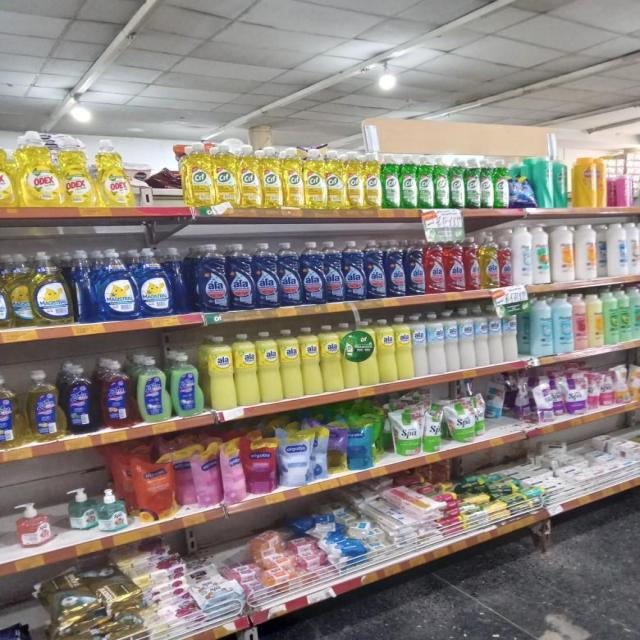ala_conc_amarillo: (481, 233, 499, 289)
ala_conc_azul: (192, 243, 228, 312), (229, 243, 253, 310), (254, 242, 278, 308), (278, 242, 300, 306), (302, 241, 324, 304), (344, 240, 365, 301), (366, 240, 385, 299), (326, 241, 344, 302), (386, 240, 405, 297), (406, 239, 425, 295)
ala_conc_rojo: (426, 238, 445, 294), (446, 236, 464, 292), (465, 235, 480, 291), (500, 233, 512, 287)
ala_crem_amarillo: (206, 335, 234, 410), (235, 332, 258, 407), (258, 330, 280, 403), (321, 324, 343, 392), (281, 328, 301, 398), (301, 326, 321, 395), (376, 318, 396, 383), (395, 315, 412, 380)
ala_crem_blanco: (428, 312, 445, 374), (412, 313, 427, 377), (503, 306, 519, 362), (460, 309, 474, 370), (445, 311, 459, 372), (474, 308, 488, 367), (489, 307, 503, 365)
cif_conc_bot_amarilla: (182, 142, 213, 208), (214, 143, 236, 208), (238, 144, 260, 208), (304, 147, 325, 209), (261, 146, 282, 208), (283, 146, 303, 208), (326, 149, 344, 209), (364, 152, 382, 208), (346, 150, 362, 208)
cif_conc_botella_verde: (382, 153, 399, 209), (400, 156, 417, 208), (434, 156, 449, 209), (418, 156, 433, 209), (465, 157, 480, 209), (494, 158, 509, 208), (450, 156, 464, 209), (481, 158, 494, 209)
magistral_con_amarillo: (32, 250, 71, 325), (9, 252, 32, 328), (0, 254, 9, 329)
magistral_con_azul: (98, 248, 136, 322), (137, 246, 174, 317), (72, 248, 97, 324)
odex: (0, 133, 16, 207)
zorro: (26, 368, 61, 442), (63, 363, 97, 434), (99, 359, 133, 428), (136, 356, 168, 422), (171, 352, 202, 418), (0, 373, 21, 450)
